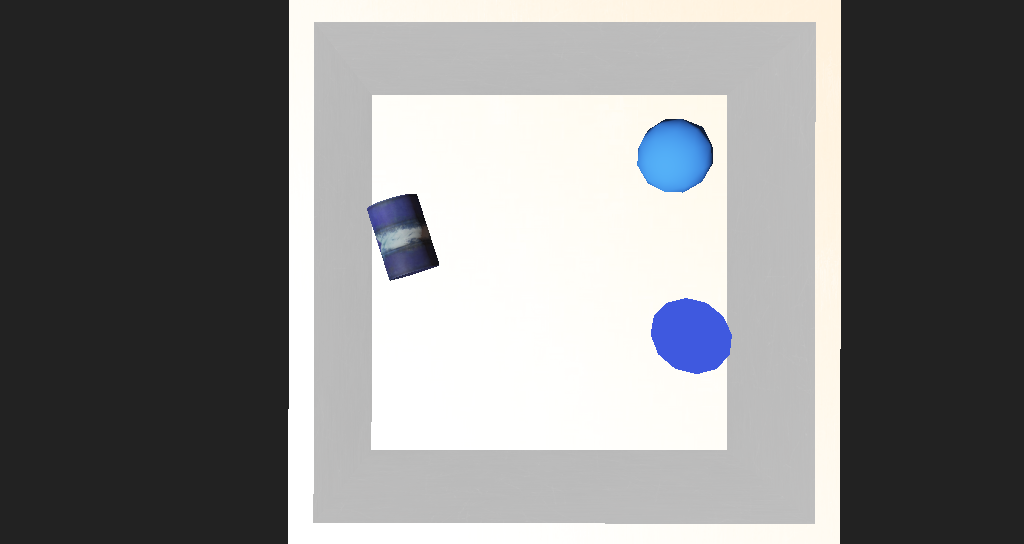cone: (347, 222, 421, 274)
cylinder: (583, 282, 657, 348)
sphere: (583, 179, 643, 222)
